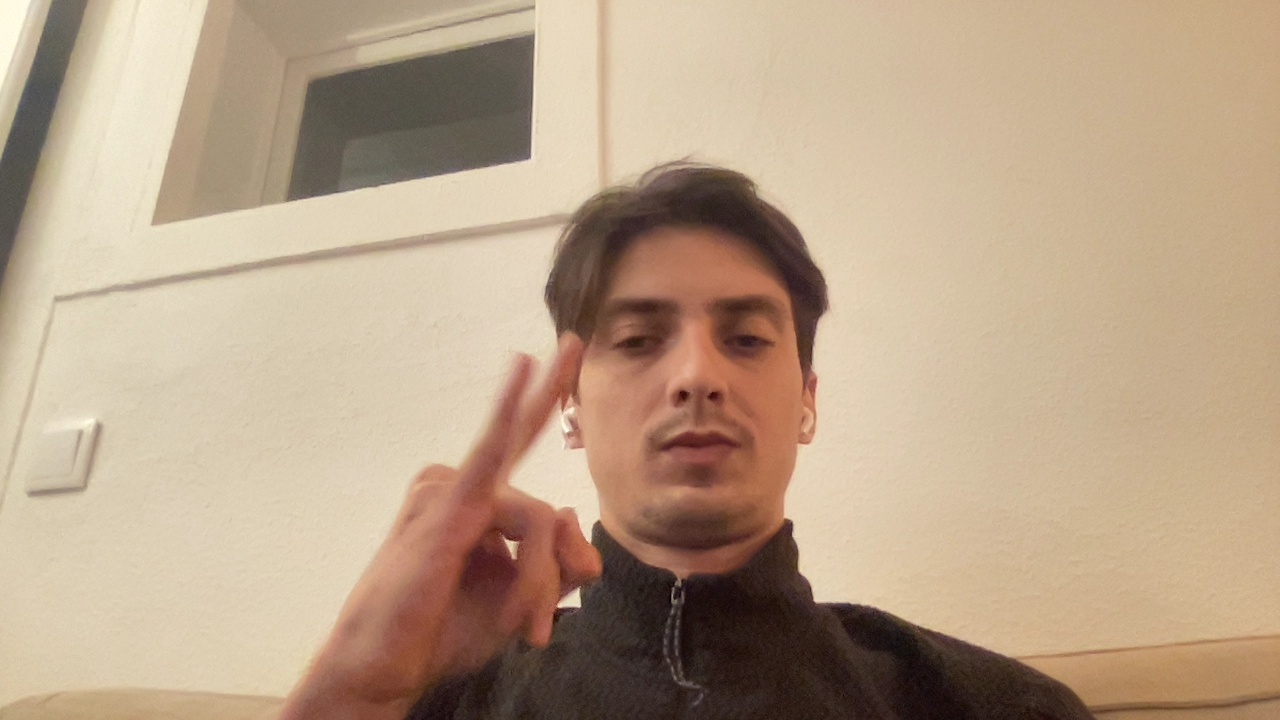I Love You: (299, 323, 641, 693)
